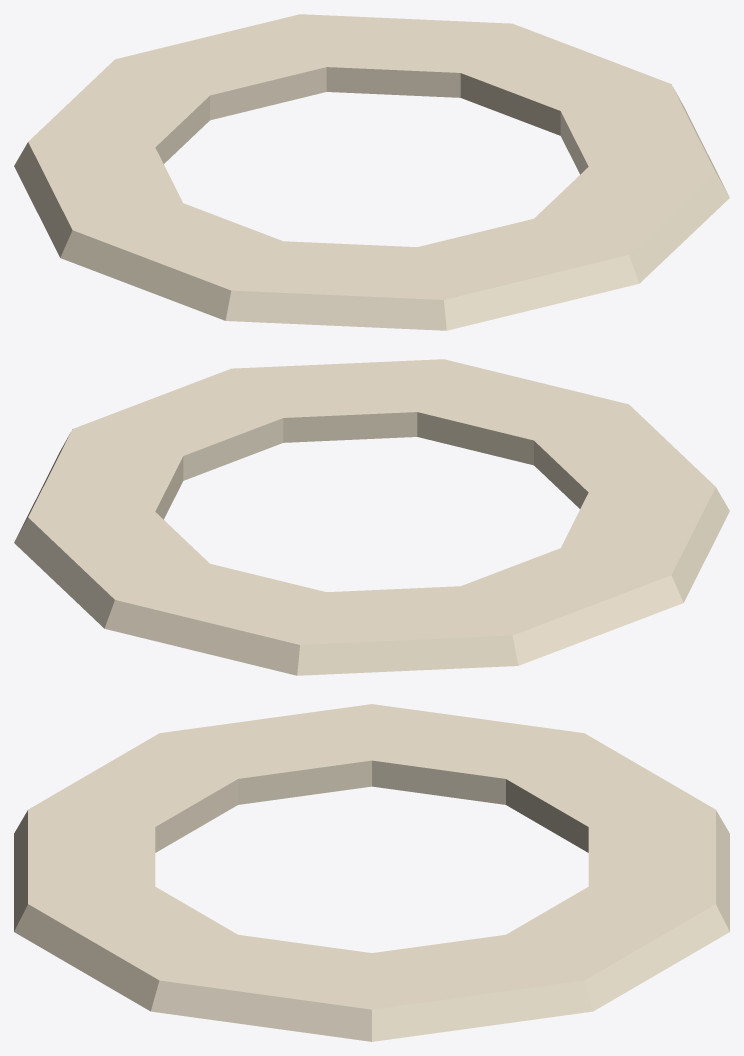
The model's file is SunnyLoop_Space_Inlay_Ring_v1.fbx.
3 renders of one model, top to bottom at view 1: azimuth 30°, elevation 25°; view 2: azimuth 150°, elevation 25°; view 3: azimuth 270°, elevation 25°, orthographic. The views are drawn at different scales.
Parts seen in each view (by area): view 1: SunnyLoop_Space_Inlay_Ring_v1; view 2: SunnyLoop_Space_Inlay_Ring_v1; view 3: SunnyLoop_Space_Inlay_Ring_v1.
Boxes of the visible parts, left/top/right/bottom form: SunnyLoop_Space_Inlay_Ring_v1: left=14, top=14, right=729, bottom=330; SunnyLoop_Space_Inlay_Ring_v1: left=14, top=359, right=729, bottom=675; SunnyLoop_Space_Inlay_Ring_v1: left=14, top=704, right=729, bottom=1041.
Bounding box in the file's own units: 2.13 × 0.0812 × 2.02.
